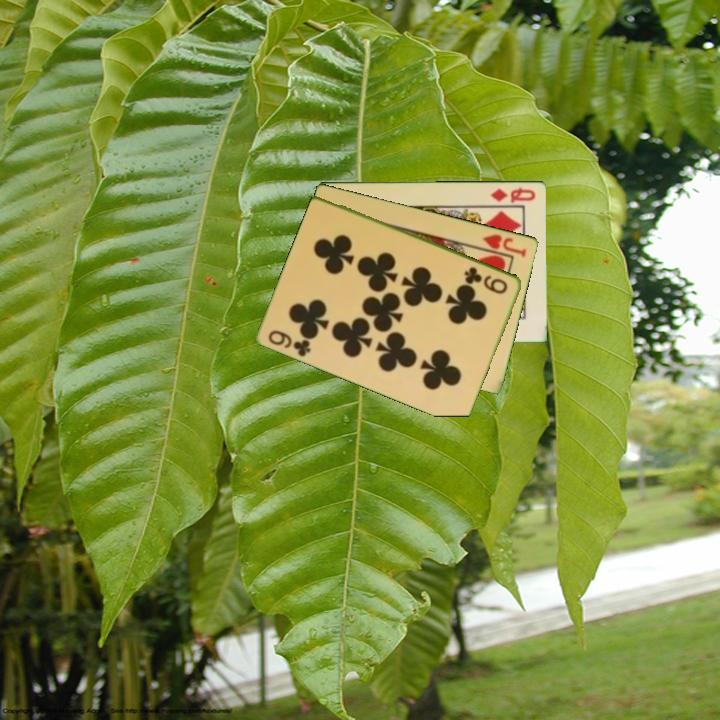9c: (461, 263, 511, 297), (265, 326, 314, 360)
Jh: (473, 230, 529, 260)
Qd: (487, 183, 538, 205)
